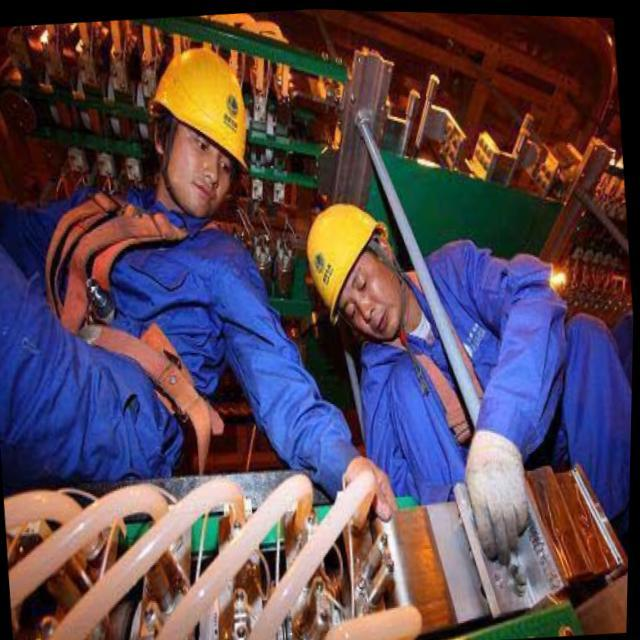belt: (60, 183, 160, 374)
